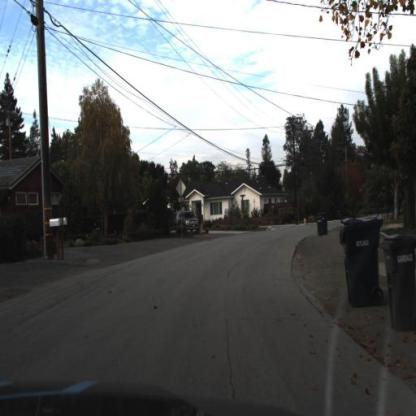car: (177, 210, 199, 233), (199, 216, 210, 237)
